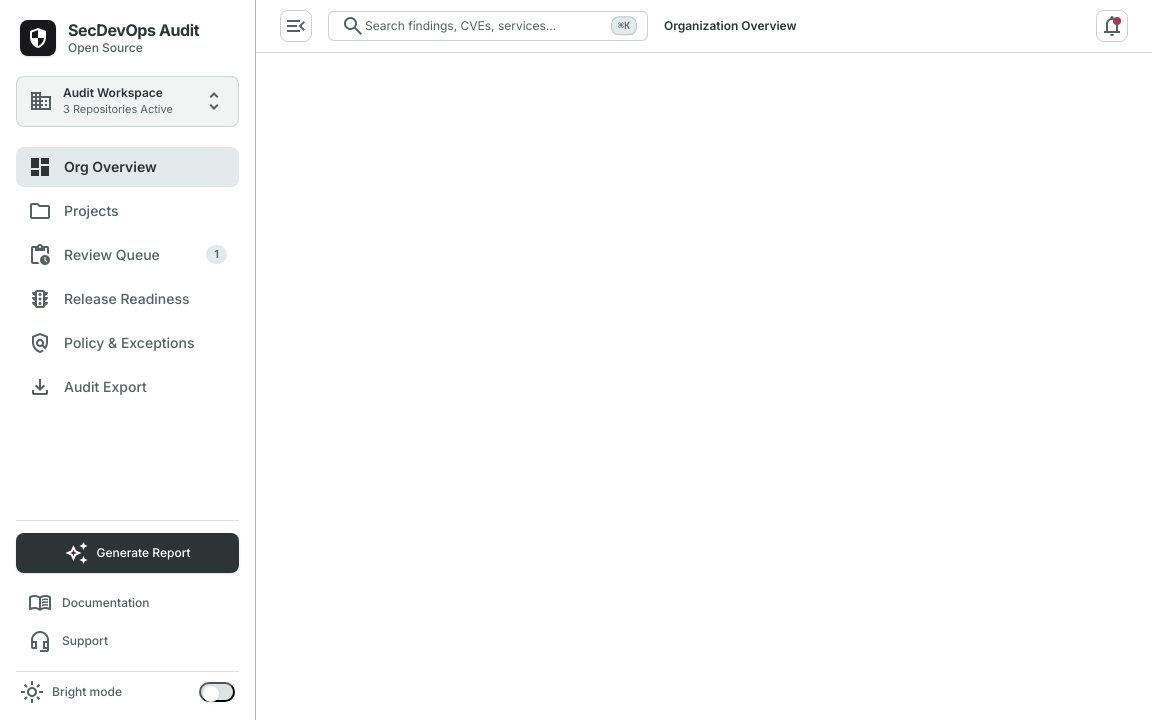
it: workspace switcher › opens a menu of repositories and closes on Escape
Click the button with test id "workspace-switcher" at (128, 101), box [16,76,239,126]
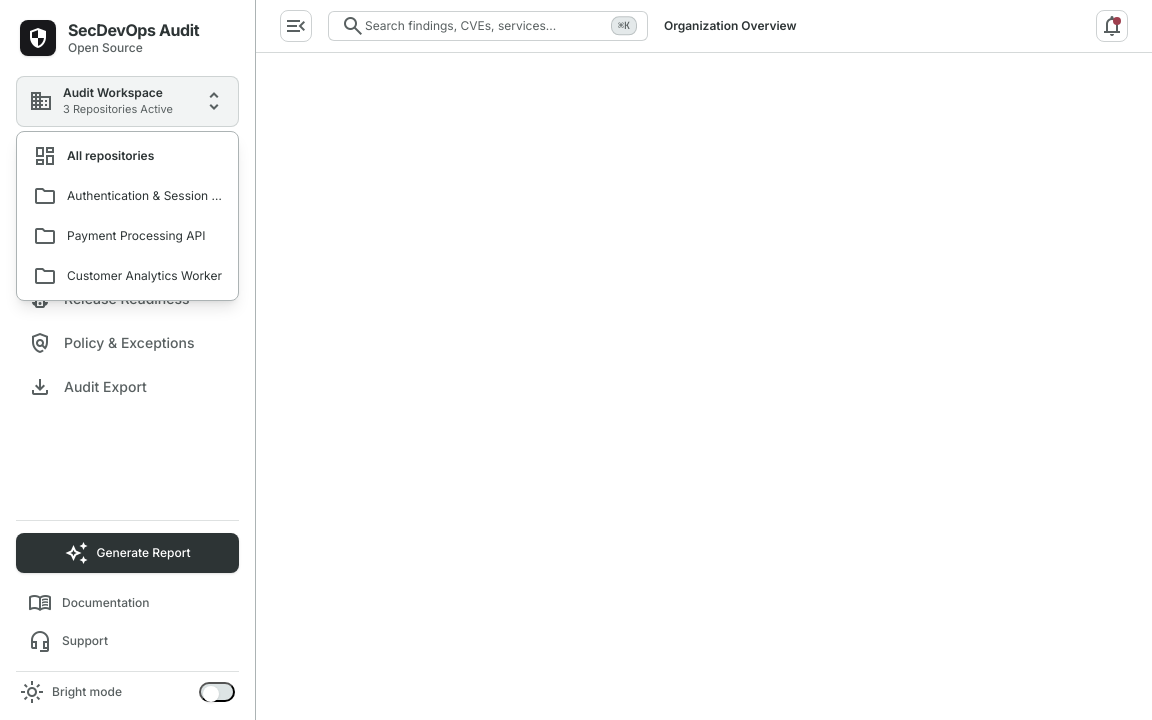
Press Escape
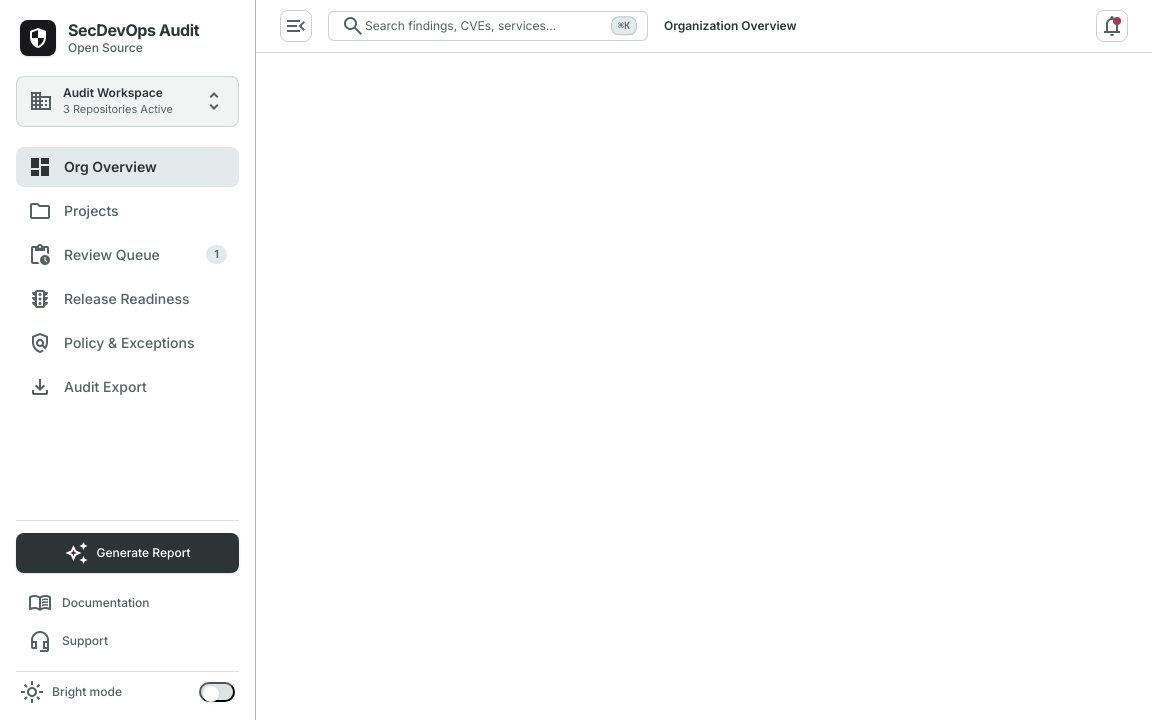
Expected: the menu with test id "workspace-menu" is gone
